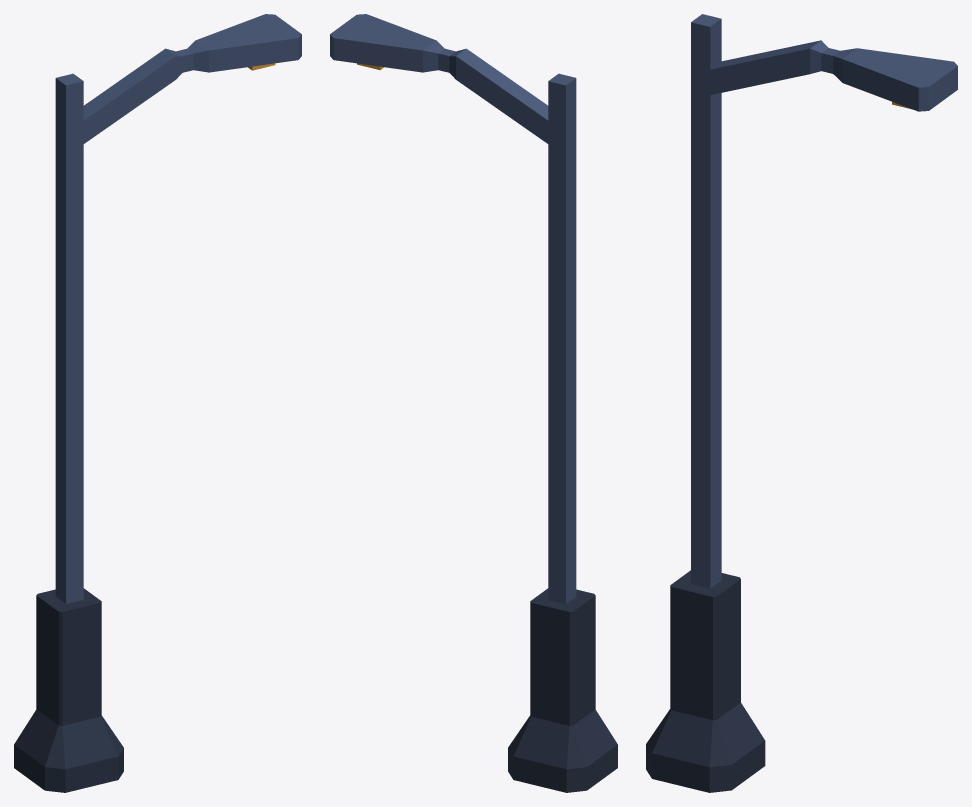
The model's file is lamp_post.FBX.
3 renders of one model, left to right at view 1: azimuth 30°, elevation 25°; view 2: azimuth 150°, elevation 25°; view 3: azimuth 330°, elevation 25°, orthographic. The views are drawn at different scales.
Parts seen in each view (by area): view 1: lamp post; view 2: lamp post; view 3: lamp post.
Boxes of the visible parts, x1=… form: lamp post: x1=14, y1=14, x2=301, y2=792; lamp post: x1=330, y1=14, x2=617, y2=792; lamp post: x1=646, y1=14, x2=957, y2=792.
Size of the model in its own units: 11.25 by 28.72 by 3.44.
